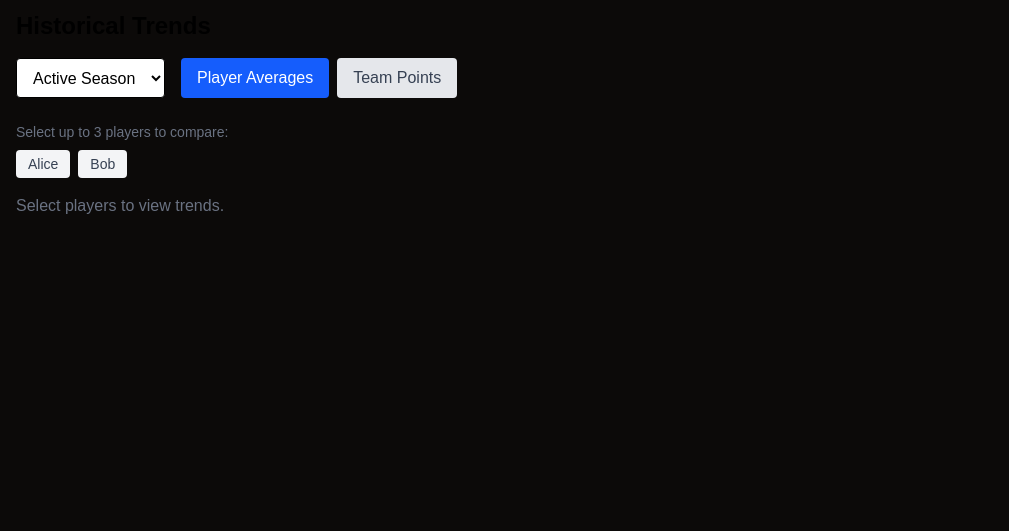
Scenario: HistoricalTrendsPage › shows team chart after selecting a team
The width and height of the screenshot is (1009, 531).
Click the button "Team Points" at point(397, 78), box [337,58,457,98]
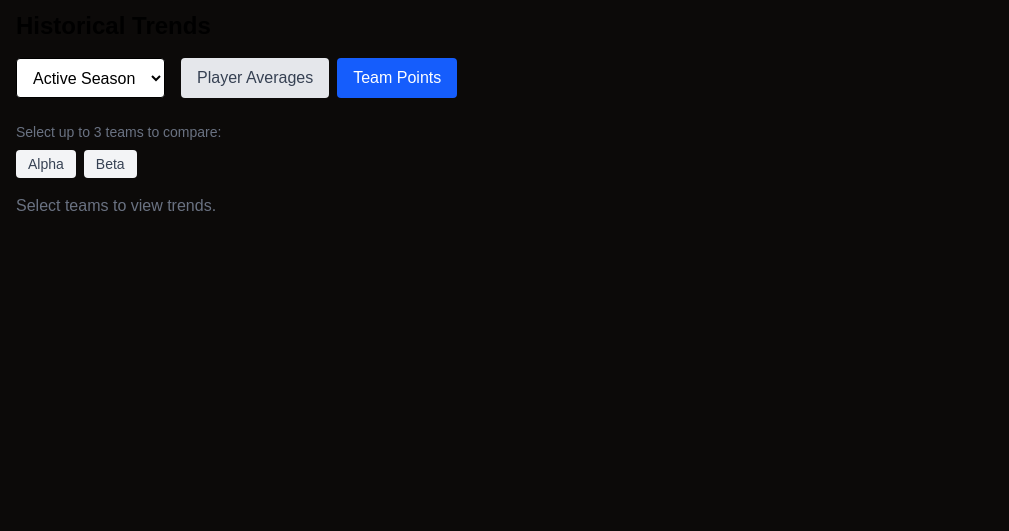
Click the button "Alpha" at point(46, 164), box [16,150,76,178]
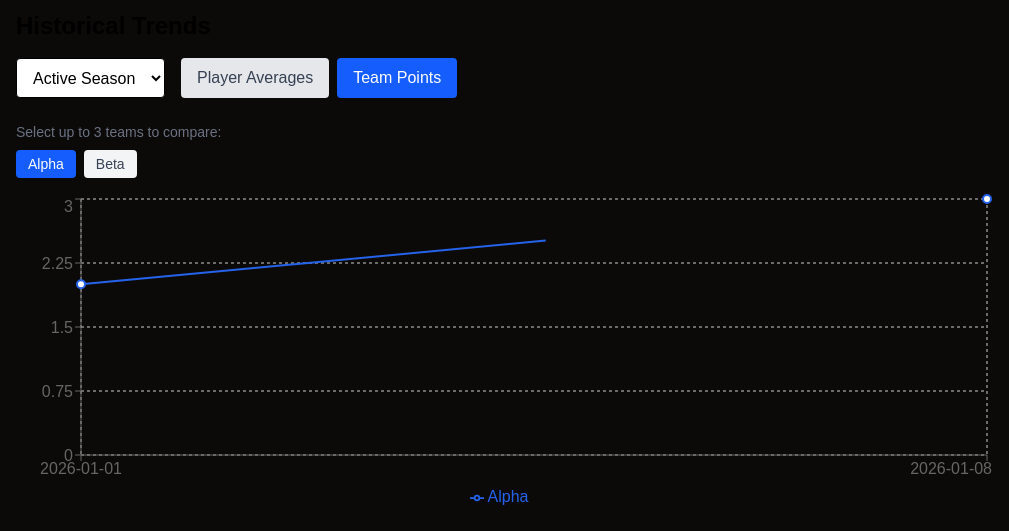
Expected: the element with test id "team-chart" is shown, [16,194,992,514]
